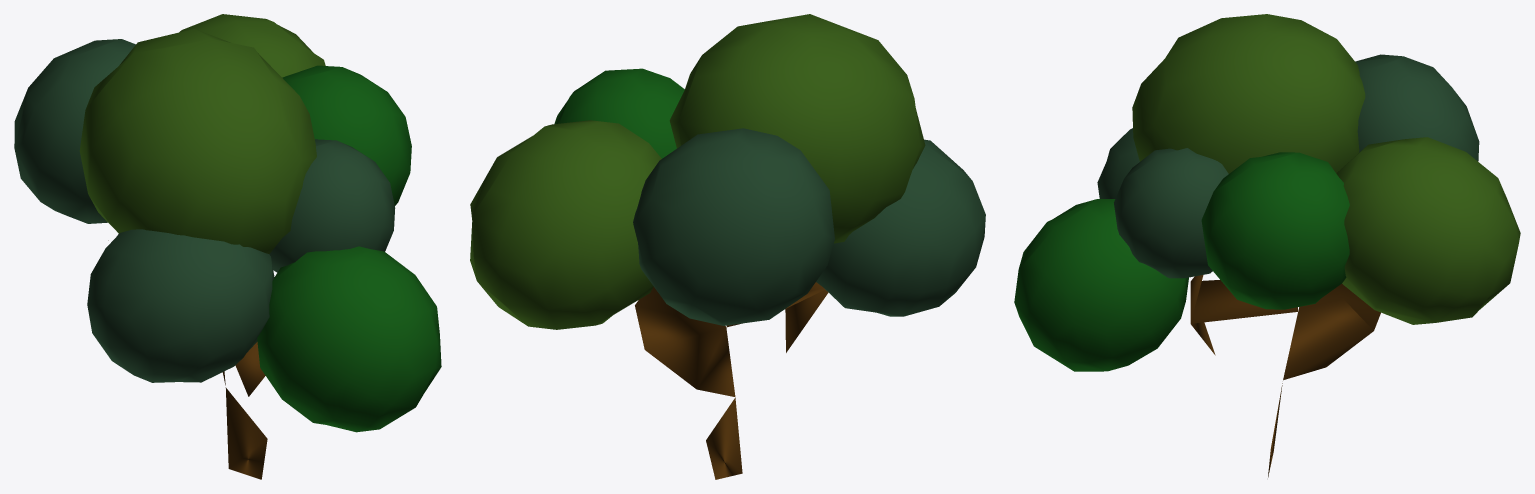
The model's file is tree3_cityedit-low-5dSRAaEm.glb.
3 renders of one model, left to right at view 1: azimuth 30°, elevation 25°; view 2: azimuth 150°, elevation 25°; view 3: azimuth 270°, elevation 25°, orthographic. The views are drawn at different scales.
Parts seen in each view (by area): view 1: Sphere.001, Sphere.005, Sphere.004, Sphere.002, Sphere.006, Sphere.003, Sphere, Cube; view 2: Sphere.001, Sphere.002, Sphere, Sphere.004, Cube, Sphere.003; view 3: Sphere.001, Sphere, Sphere.005, Sphere.003, Sphere.006, Sphere.002, Cube, Sphere.004.
Part boxes in pixels (x1,y1,x2,y2): Sphere.001: (79,29,316,253); Sphere.005: (257,246,441,432); Sphere.004: (87,229,274,382); Sphere.002: (14,39,135,223); Sphere.006: (269,139,395,272); Sphere.003: (282,65,411,205); Sphere: (179,14,325,77); Cube: (108,240,267,479); Sphere.001: (669,14,925,243); Sphere.002: (633,128,834,325); Sphere: (470,120,661,329); Sphere.004: (816,139,985,316); Cube: (635,282,828,479); Sphere.003: (554,68,684,158); Sphere.001: (1132,14,1365,173); Sphere: (1336,137,1520,324); Sphere.005: (1014,199,1188,371); Sphere.003: (1201,152,1349,309); Sphere.006: (1114,148,1228,278); Sphere.002: (1355,54,1479,161); Cube: (1190,275,1380,477); Sphere.004: (1097,128,1139,198).
Bounding box in the file's own units: 7.77 × 9.64 × 10.44.
